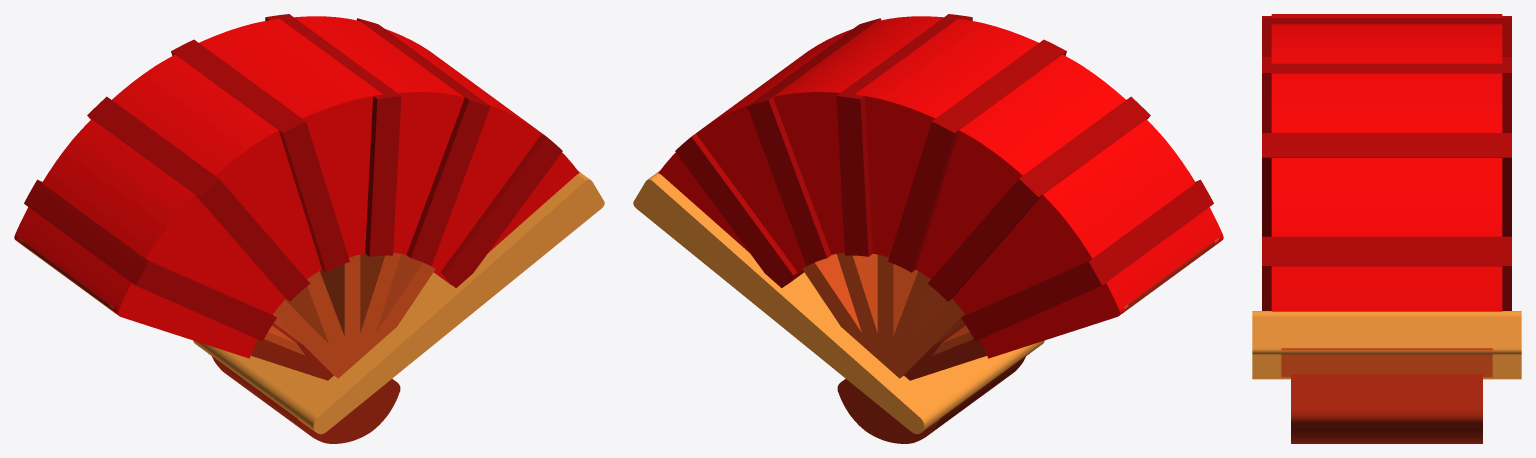
Rendered from U+1FAAD.obj.
The picture shows the model from 3 angles, left to right: view 1: azimuth 30°, elevation 25°; view 2: azimuth 150°, elevation 25°; view 3: azimuth 270°, elevation 25°; orthographic projection. The views are drawn at different scales.
Parts seen in each view (by area): view 1: U+1FAAD_layer02_obj00, U+1FAAD_layer04_obj00, U+1FAAD_layer01_obj02, U+1FAAD_layer03_obj04, U+1FAAD_layer03_obj03, U+1FAAD_layer03_obj01, U+1FAAD_layer03_obj02, U+1FAAD_layer03_obj00, U+1FAAD_layer03_obj05, U+1FAAD_layer00_obj02, U+1FAAD_layer00_obj00, U+1FAAD_layer01_obj00; view 2: U+1FAAD_layer02_obj00, U+1FAAD_layer04_obj00, U+1FAAD_layer01_obj02, U+1FAAD_layer03_obj04, U+1FAAD_layer03_obj03, U+1FAAD_layer03_obj01, U+1FAAD_layer03_obj02, U+1FAAD_layer03_obj00, U+1FAAD_layer03_obj05, U+1FAAD_layer00_obj02, U+1FAAD_layer00_obj00, U+1FAAD_layer01_obj00; view 3: U+1FAAD_layer02_obj00, U+1FAAD_layer04_obj00, U+1FAAD_layer00_obj00, U+1FAAD_layer03_obj05, U+1FAAD_layer03_obj00, U+1FAAD_layer01_obj01, U+1FAAD_layer00_obj02, U+1FAAD_layer03_obj02, U+1FAAD_layer03_obj01.
Part boxes in pixels (x1,y1,x2,y2): U+1FAAD_layer02_obj00: (14, 16, 579, 358); U+1FAAD_layer04_obj00: (193, 171, 604, 434); U+1FAAD_layer01_obj02: (273, 252, 435, 378); U+1FAAD_layer03_obj04: (24, 179, 276, 341); U+1FAAD_layer03_obj03: (87, 96, 310, 301); U+1FAAD_layer03_obj01: (171, 39, 349, 272); U+1FAAD_layer03_obj02: (265, 14, 401, 256); U+1FAAD_layer03_obj00: (356, 18, 490, 266); U+1FAAD_layer03_obj05: (440, 131, 562, 287); U+1FAAD_layer00_obj02: (212, 356, 399, 443); U+1FAAD_layer00_obj00: (23, 241, 400, 400); U+1FAAD_layer01_obj00: (19, 238, 304, 355); U+1FAAD_layer02_obj00: (658, 16, 1223, 358); U+1FAAD_layer04_obj00: (633, 171, 1044, 434); U+1FAAD_layer01_obj02: (802, 252, 964, 378); U+1FAAD_layer03_obj04: (961, 179, 1213, 341); U+1FAAD_layer03_obj03: (927, 96, 1150, 301); U+1FAAD_layer03_obj01: (888, 39, 1066, 272); U+1FAAD_layer03_obj02: (836, 14, 972, 256); U+1FAAD_layer03_obj00: (747, 18, 881, 266); U+1FAAD_layer03_obj05: (675, 131, 797, 287); U+1FAAD_layer00_obj02: (838, 356, 1025, 443); U+1FAAD_layer00_obj00: (837, 241, 1214, 400); U+1FAAD_layer01_obj00: (933, 238, 1218, 355); U+1FAAD_layer02_obj00: (1271, 14, 1502, 311); U+1FAAD_layer04_obj00: (1252, 311, 1521, 379); U+1FAAD_layer00_obj00: (1291, 374, 1482, 421); U+1FAAD_layer03_obj05: (1262, 236, 1511, 310); U+1FAAD_layer03_obj00: (1262, 133, 1511, 236); U+1FAAD_layer01_obj01: (1281, 348, 1492, 377); U+1FAAD_layer00_obj02: (1291, 421, 1482, 443); U+1FAAD_layer03_obj02: (1262, 57, 1511, 132); U+1FAAD_layer03_obj01: (1262, 18, 1511, 56).
Bounding box in the file's own units: 0.3202 × 0.2235 × 0.14.
